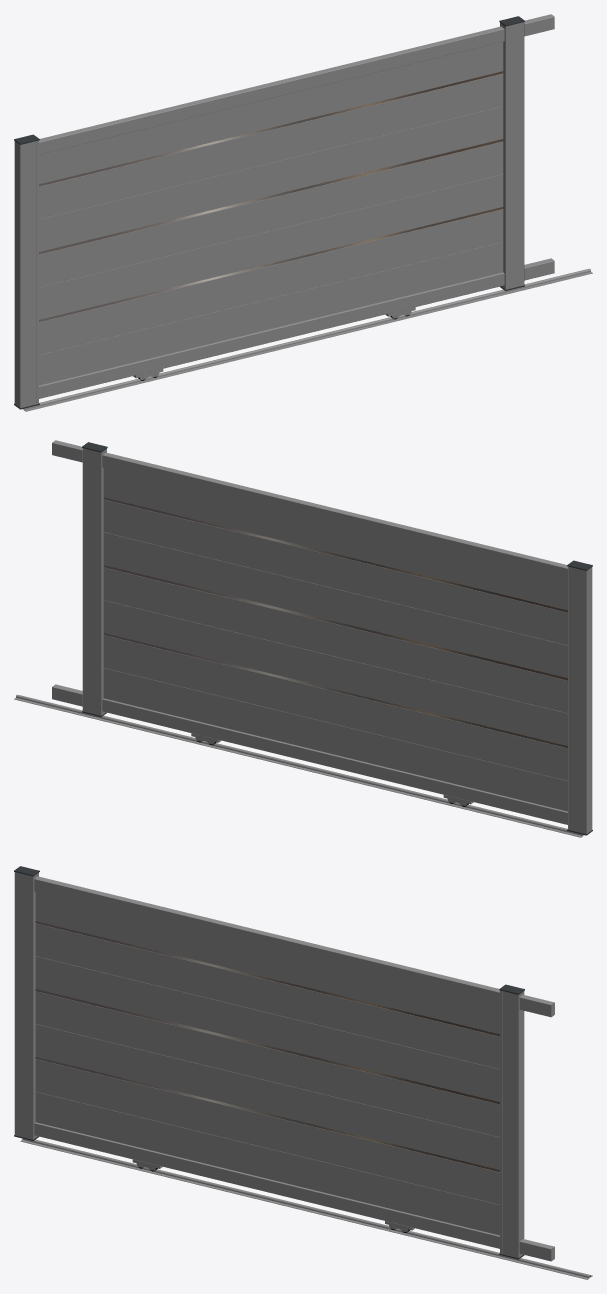
The picture shows the model from 3 angles, top to bottom: view 1: azimuth 30°, elevation 25°; view 2: azimuth 150°, elevation 25°; view 3: azimuth 330°, elevation 25°; orthographic projection.
Visible parts, largest first — view 1: alunox (×4), Shape176, Shape184, Shape180, Shape170, Shape1, Shape192, Shape096, Shape095, Shape107412643, Shape107413021, Rail; view 2: alunox (×4), Shape180, Shape170, Shape176, Shape184, Shape1, Shape192, Shape096, Shape095, Shape107412643, Shape107413021, Rail; view 3: alunox (×4), Shape176, Shape184, Shape170, Shape180, Shape1, Shape192, Shape096, Shape095, Shape107413021, Shape107412643, Rail.
Part boxes in pixels (bbox=[...]): alunox (×4): bbox=[39, 71, 503, 321]; Shape176: bbox=[39, 174, 503, 319]; Shape184: bbox=[39, 106, 503, 251]; Shape180: bbox=[39, 141, 503, 287]; Shape170: bbox=[39, 209, 503, 354]; Shape1: bbox=[39, 242, 503, 385]; Shape192: bbox=[39, 42, 503, 184]; Shape096: bbox=[39, 14, 554, 154]; Shape095: bbox=[39, 258, 554, 398]; Shape107412643: bbox=[14, 140, 38, 408]; Shape107413021: bbox=[500, 22, 524, 289]; Rail: bbox=[22, 268, 592, 411]; alunox (×4): bbox=[103, 497, 567, 748]; Shape180: bbox=[103, 567, 567, 713]; Shape170: bbox=[103, 635, 567, 780]; Shape176: bbox=[103, 600, 567, 745]; Shape184: bbox=[103, 532, 567, 677]; Shape1: bbox=[103, 668, 567, 811]; Shape192: bbox=[103, 468, 567, 610]; Shape096: bbox=[52, 440, 567, 580]; Shape095: bbox=[52, 684, 567, 824]; Shape107412643: bbox=[568, 566, 592, 833]; Shape107413021: bbox=[82, 448, 106, 715]; Rail: bbox=[14, 694, 584, 837]; alunox (×4): bbox=[35, 921, 499, 1171]; Shape176: bbox=[35, 1024, 499, 1169]; Shape184: bbox=[35, 956, 499, 1101]; Shape170: bbox=[35, 1059, 499, 1204]; Shape180: bbox=[35, 991, 499, 1136]; Shape1: bbox=[35, 1092, 499, 1235]; Shape192: bbox=[35, 891, 499, 1034]; Shape096: bbox=[34, 876, 554, 1017]; Shape095: bbox=[34, 1122, 554, 1261]; Shape107413021: bbox=[500, 990, 524, 1257]; Shape107412643: bbox=[14, 872, 38, 1139]; Rail: bbox=[20, 1138, 592, 1279].
Bounding box in the file's own units: 3638 × 1636 × 70.
Materials: 7 (3 with a texture image).
